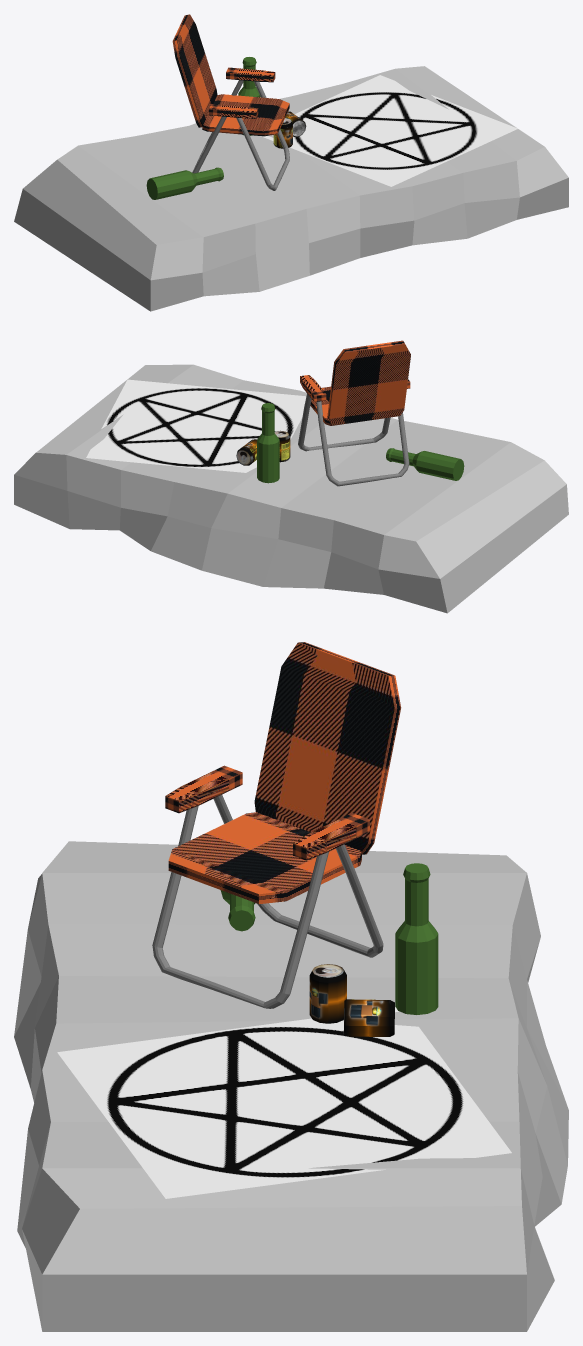
File: shrineWITHbetterSTONE.fbx
The picture shows the model from 3 angles, top to bottom: view 1: azimuth 30°, elevation 25°; view 2: azimuth 150°, elevation 25°; view 3: azimuth 270°, elevation 25°; orthographic projection. The views are drawn at different scales.
Visible parts, largest first — view 1: Cube, Cube.004, Cylinder.003, Cylinder; view 2: Cube, Cube.004, Cylinder, Cylinder.003, Cylinder.002, Cylinder.001; view 3: Cube, Cube.004, Cylinder, Cylinder.001, Cylinder.002, Cylinder.003.
Boxes of the visible parts, left/top/right/bottom form: Cube: left=14, top=66, right=568, bottom=311; Cube.004: left=172, top=14, right=289, bottom=190; Cylinder.003: left=146, top=167, right=223, bottom=199; Cylinder: left=238, top=57, right=260, bottom=135; Cube: left=14, top=364, right=568, bottom=613; Cube.004: left=298, top=340, right=410, bottom=486; Cylinder: left=257, top=403, right=279, bottom=483; Cylinder.003: left=386, top=448, right=464, bottom=480; Cylinder.002: left=236, top=439, right=256, bottom=465; Cylinder.001: left=274, top=430, right=290, bottom=462; Cube: left=14, top=841, right=568, bottom=1331; Cube.004: left=152, top=642, right=401, bottom=1008; Cylinder: left=395, top=863, right=438, bottom=1014; Cylinder.001: left=309, top=964, right=346, bottom=1023; Cylinder.002: left=343, top=999, right=394, bottom=1036; Cylinder.003: left=220, top=890, right=255, bottom=931.
Bounding box in the file's own units: 1041 × 484 × 604.
